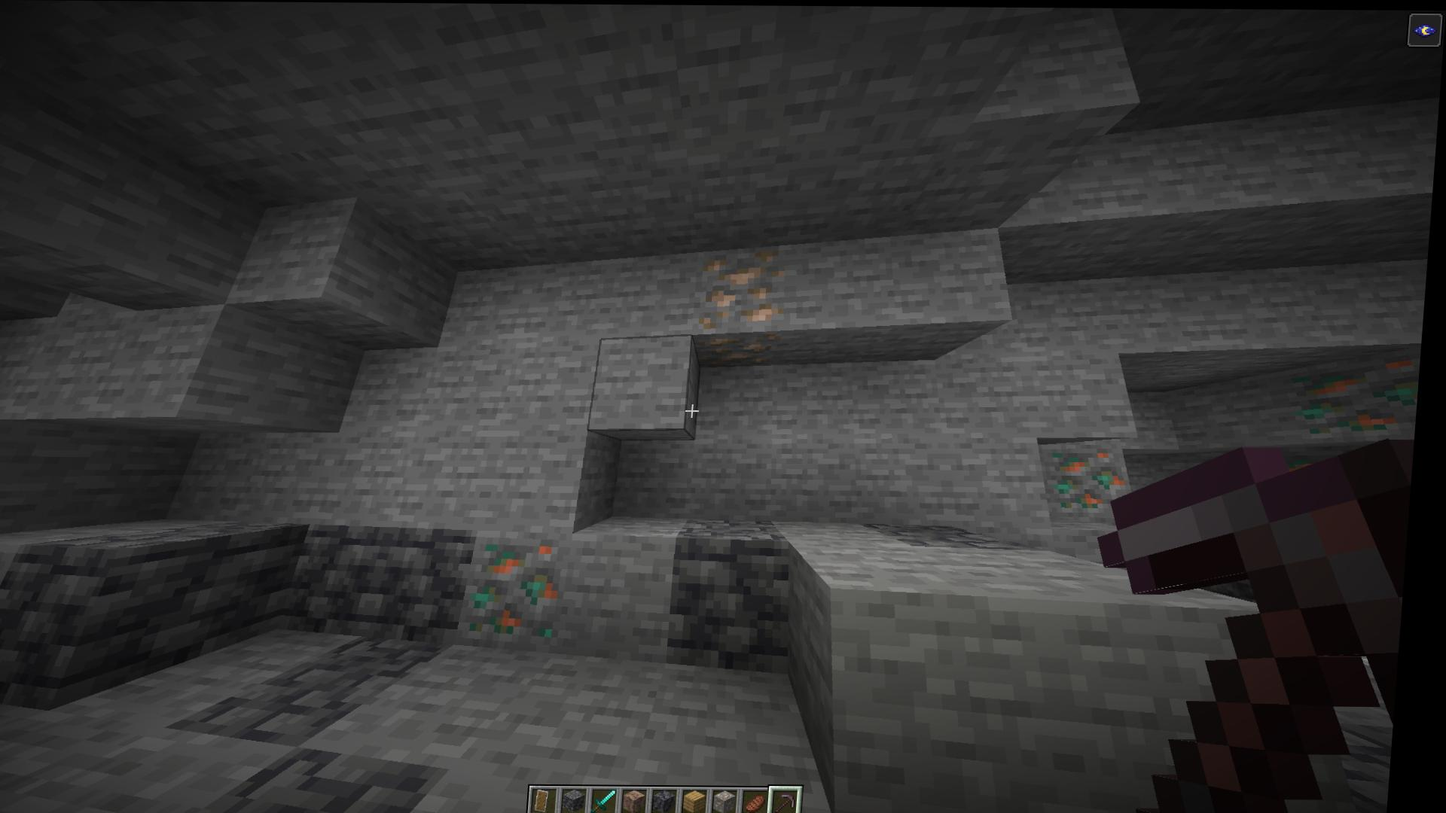iron ore: (700, 247, 787, 332), (700, 330, 780, 364)
